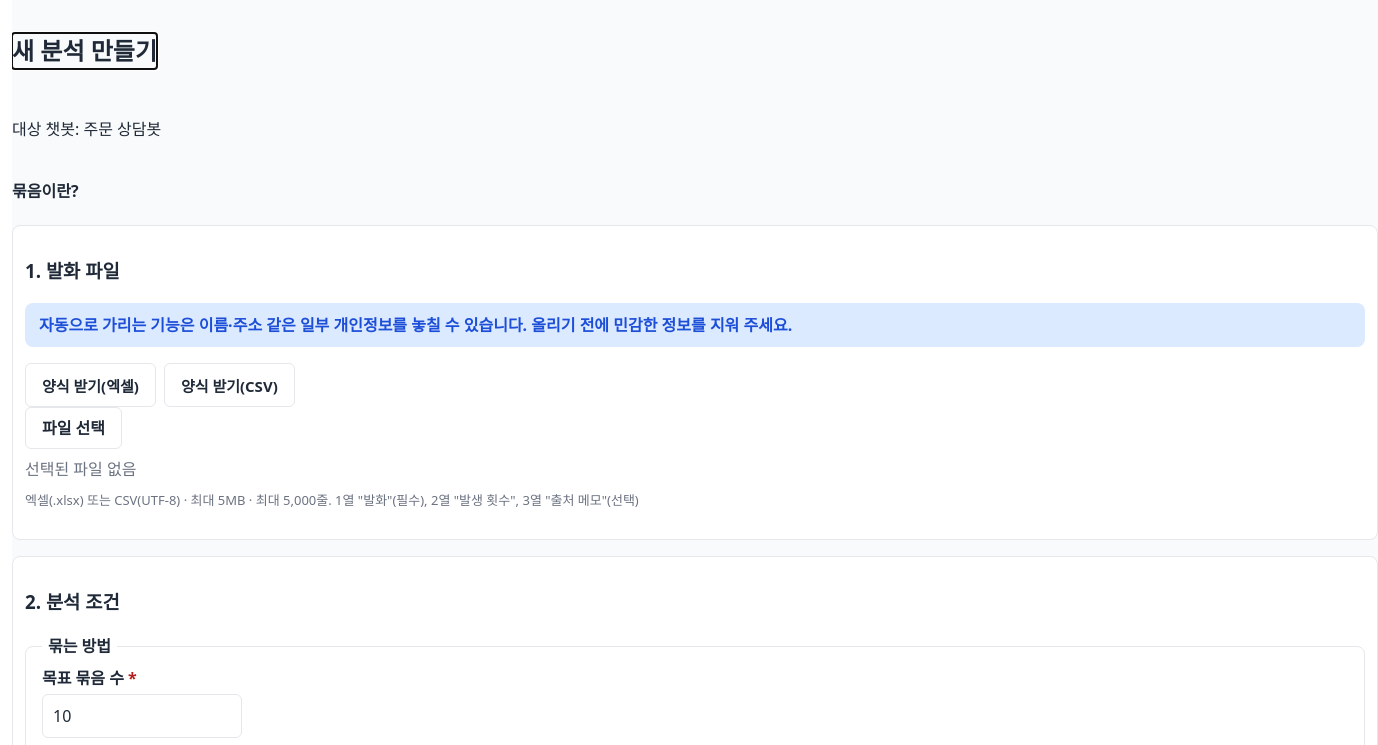
Test case: 발화 묶음 분석 화면 — axe 접근성 스캔 › UA-2 새 분석 — 제출 오류가 모두 표시된 상태
The width and height of the screenshot is (1378, 745).
Expected: the text "대상 챗봇: 주문 상담봇" is shown, [12,118,161,140]
Clear the number field labelled "목표 묶음 수 *" at {"x": 142, "y": 716}, box [42,694,242,738]
(page scrolled)
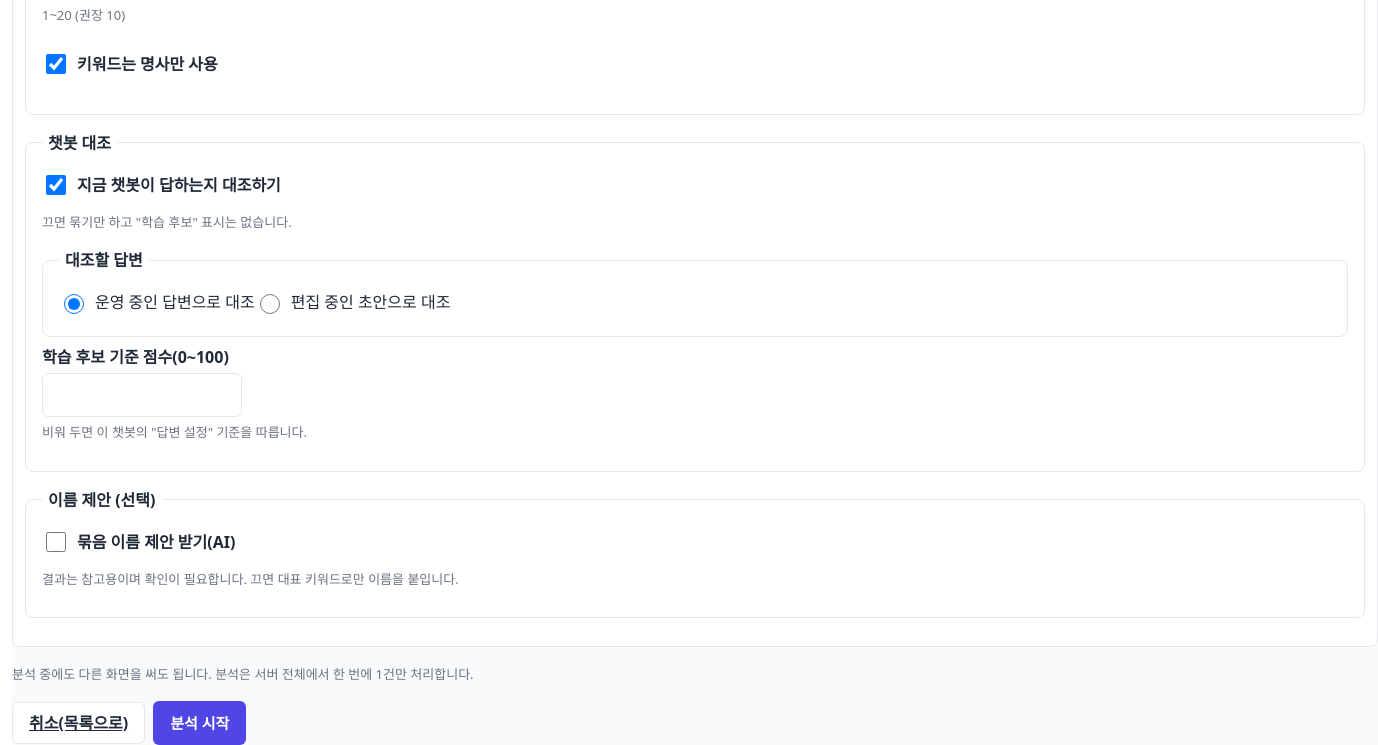
Click the button "분석 시작" at {"x": 200, "y": 723}, box [153,701,246,744]
(page scrolled)
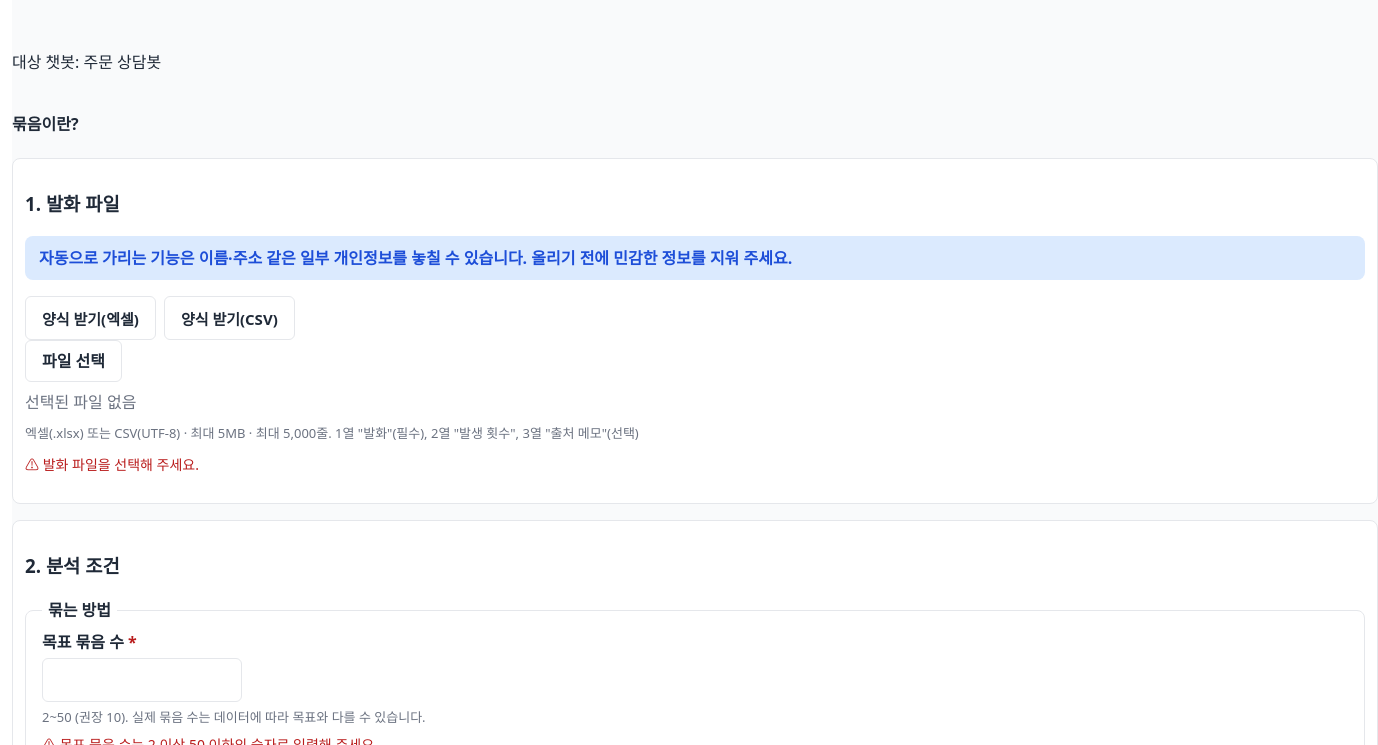
Expected: the text "발화 파일을 선택해 주세요." is shown, [43,455,199,474]
